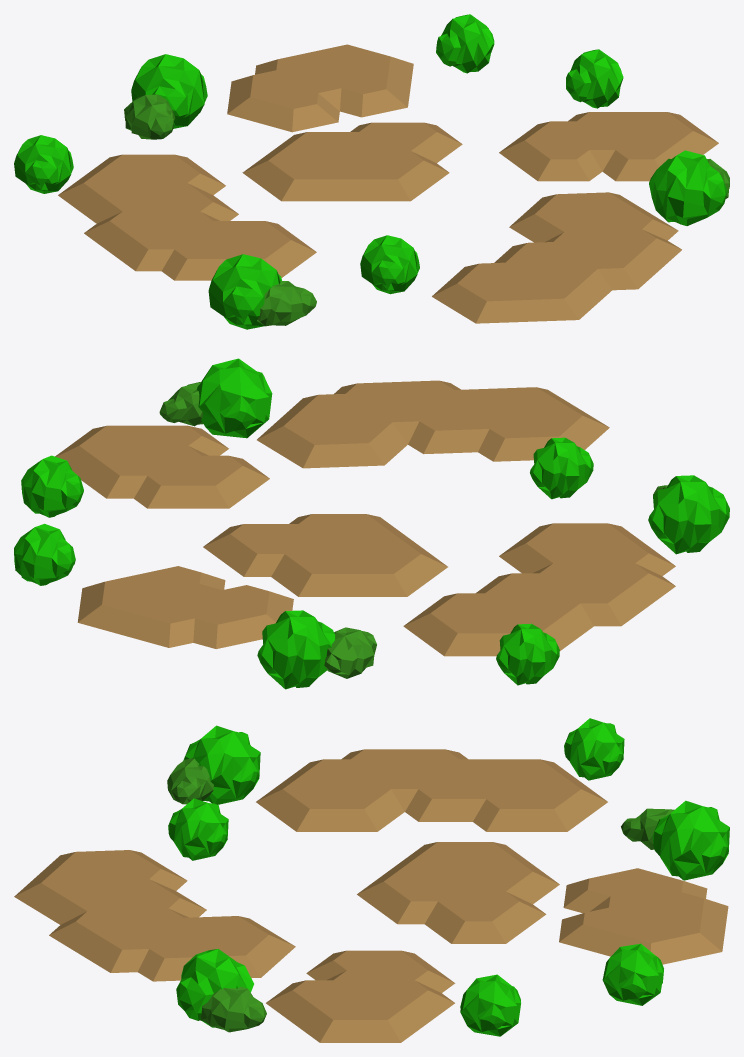
File: new_wiese_objekte.fbx
3 renders of one model, top to bottom at view 1: azimuth 30°, elevation 25°; view 2: azimuth 150°, elevation 25°; view 3: azimuth 270°, elevation 25°, orthographic. The views are drawn at different scales.
Visible parts, largest first — view 1: Cylinder.004, Cylinder.001, Cylinder.002, Cylinder.003, Cylinder.019, Sphere.037, Sphere.001, Sphere.049, Sphere.038, Sphere.050, Sphere.003, Sphere.052 (+2 smaller); view 2: Cylinder.004, Cylinder.001, Cylinder.002, Cylinder.019, Cylinder.003, Sphere.001, Sphere.037, Sphere.049, Sphere.052, Sphere.038, Sphere.050, Sphere.003 (+2 smaller); view 3: Cylinder.001, Cylinder.004, Cylinder.002, Cylinder.019, Cylinder.003, Sphere.049, Sphere.001, Sphere.037, Sphere.003, Sphere.052, Sphere.050, Sphere.038 (+3 smaller).
Part boxes in pixels (left/top/right/bottom): Cylinder.004: left=432, top=192, right=681, bottom=323; Cylinder.001: left=58, top=154, right=316, bottom=280; Cylinder.002: left=242, top=122, right=462, bottom=201; Cylinder.003: left=227, top=44, right=413, bottom=132; Cylinder.019: left=499, top=112, right=718, bottom=181; Sphere.037: left=649, top=150, right=727, bottom=225; Sphere.001: left=208, top=254, right=281, bottom=329; Sphere.049: left=131, top=54, right=207, bottom=128; Sphere.038: left=14, top=135, right=73, bottom=193; Sphere.050: left=360, top=235, right=419, bottom=294; Sphere.003: left=436, top=14, right=494, bottom=73; Sphere.052: left=566, top=49, right=623, bottom=108; Cylinder.004: left=257, top=380, right=609, bottom=468; Cylinder.001: left=403, top=523, right=675, bottom=656; Cylinder.002: left=203, top=514, right=447, bottom=596; Cylinder.019: left=55, top=425, right=269, bottom=508; Cylinder.003: left=77, top=566, right=293, bottom=648; Sphere.001: left=648, top=475, right=729, bottom=554; Sphere.037: left=197, top=358, right=272, bottom=438; Sphere.049: left=257, top=610, right=335, bottom=689; Sphere.052: left=21, top=455, right=83, bottom=517; Sphere.038: left=496, top=623, right=559, bottom=685; Sphere.050: left=530, top=437, right=593, bottom=499; Sphere.003: left=14, top=523, right=75, bottom=585; Cylinder.001: left=256, top=749, right=607, bottom=831; Cylinder.004: left=14, top=850, right=295, bottom=981; Cylinder.002: left=357, top=842, right=559, bottom=943; Cylinder.019: left=266, top=950, right=455, bottom=1042; Cylinder.003: left=559, top=868, right=728, bottom=964; Sphere.049: left=652, top=800, right=729, bottom=880; Sphere.001: left=183, top=725, right=260, bottom=804; Sphere.037: left=176, top=949, right=253, bottom=1027; Sphere.003: left=602, top=943, right=663, bottom=1005; Sphere.052: left=460, top=974, right=520, bottom=1036; Sphere.050: left=168, top=798, right=228, bottom=860; Sphere.038: left=564, top=718, right=624, bottom=780.
Bounding box in the file's own units: 151 × 17.66 × 157.
